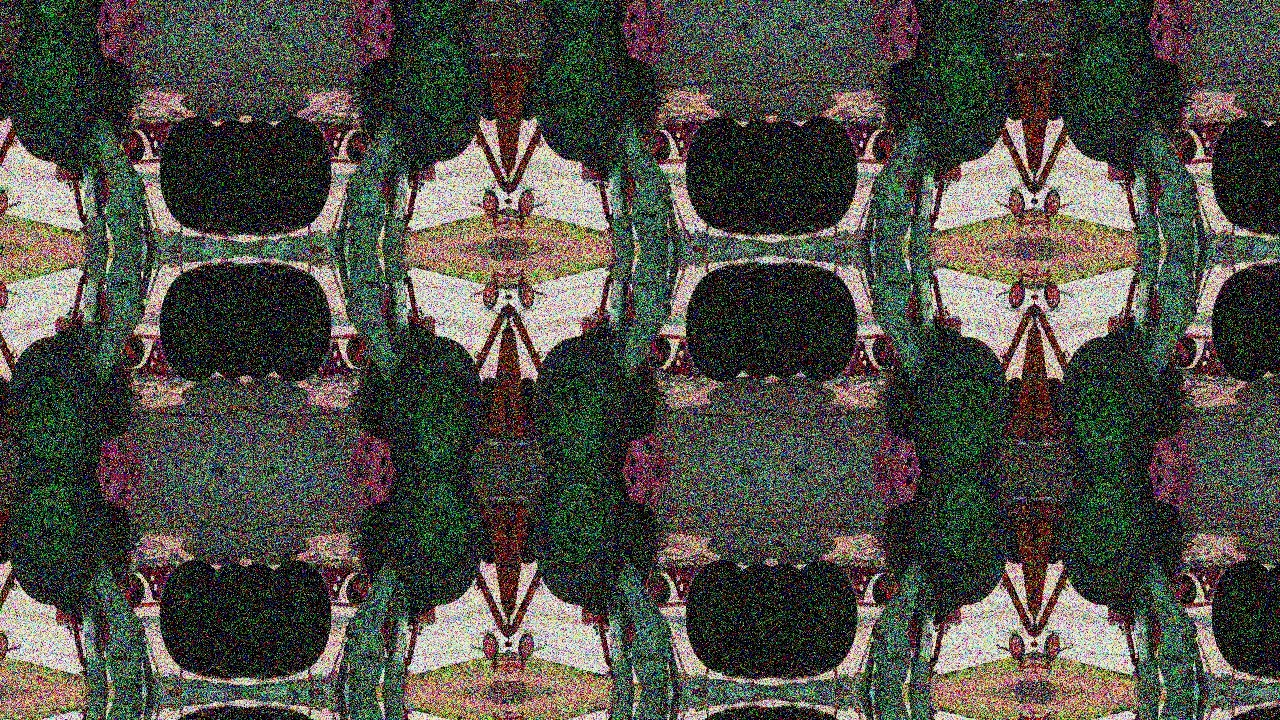chock: (74, 27, 164, 72), (326, 27, 416, 72), (600, 27, 690, 72), (853, 27, 943, 72), (1127, 27, 1217, 72), (74, 426, 164, 471), (326, 426, 416, 471), (600, 426, 690, 471), (853, 426, 943, 471), (1127, 426, 1217, 471), (74, 471, 164, 516), (326, 471, 416, 516), (600, 471, 690, 516), (853, 471, 943, 516), (1127, 471, 1217, 516), (74, 0, 164, 27), (326, 0, 416, 27), (600, 0, 690, 27), (853, 0, 943, 27), (1127, 0, 1217, 27)
wheel: (363, 27, 498, 171), (519, 27, 654, 171), (889, 27, 1024, 171), (1046, 27, 1181, 171), (363, 327, 498, 471), (519, 327, 654, 471), (889, 327, 1024, 471), (1046, 327, 1181, 471), (363, 471, 498, 615), (519, 471, 654, 615), (889, 471, 1024, 615), (1046, 471, 1181, 615), (0, 27, 127, 171), (0, 327, 127, 471), (0, 471, 127, 615), (145, 110, 233, 236), (257, 110, 345, 236), (671, 110, 759, 236), (784, 110, 872, 236), (145, 262, 233, 388), (257, 262, 345, 388), (671, 262, 759, 388), (784, 262, 872, 388), (145, 554, 233, 680), (257, 554, 345, 680), (671, 554, 759, 680), (784, 554, 872, 680), (1198, 110, 1280, 236), (1198, 262, 1280, 388), (1198, 554, 1280, 680), (199, 116, 245, 243), (245, 116, 291, 243), (726, 116, 772, 243), (199, 255, 245, 382), (245, 255, 291, 382), (726, 255, 772, 382), (199, 560, 245, 687), (245, 560, 291, 687), (726, 560, 772, 687), (772, 116, 817, 243), (772, 255, 817, 382), (772, 560, 817, 687), (363, 0, 498, 27), (519, 0, 654, 27), (889, 0, 1024, 27), (1046, 0, 1181, 27), (0, 0, 127, 27), (1253, 116, 1280, 243), (1253, 255, 1280, 382), (1253, 560, 1280, 687), (145, 706, 233, 720), (257, 706, 345, 720), (671, 706, 759, 720), (784, 706, 872, 720), (1198, 706, 1280, 720), (199, 699, 245, 720), (245, 699, 291, 720), (726, 699, 772, 720), (772, 699, 817, 720), (1253, 699, 1280, 720)
